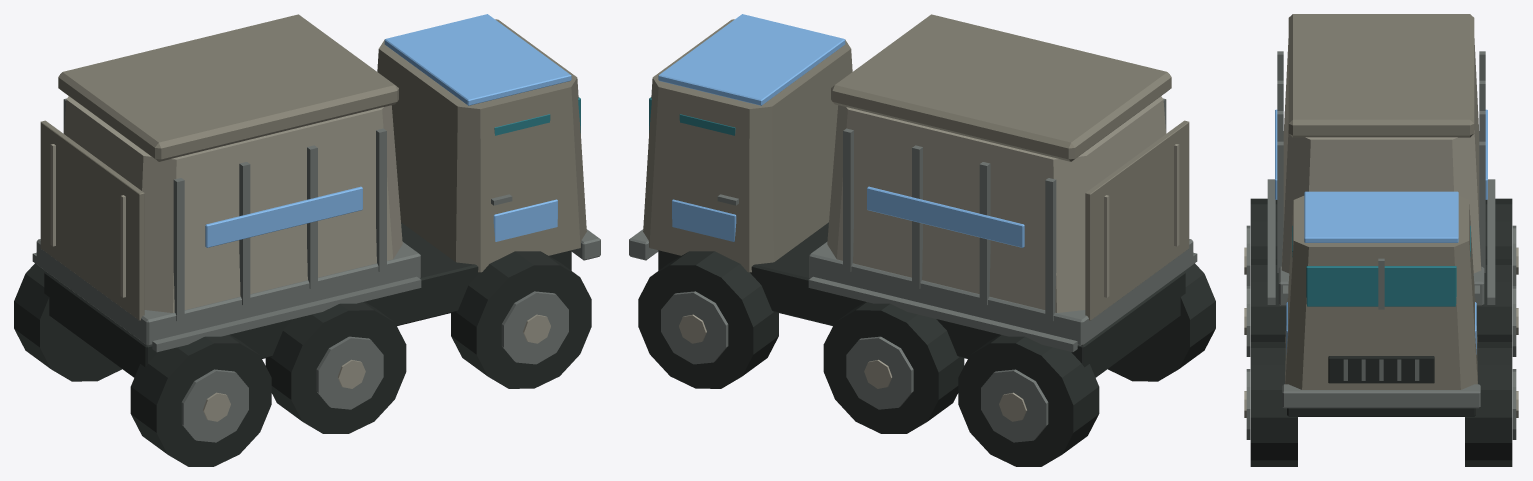
Rendered from supply_truck.glb.
3 renders of one model, left to right at view 1: azimuth 30°, elevation 25°; view 2: azimuth 150°, elevation 25°; view 3: azimuth 270°, elevation 25°, orthographic. The views are drawn at different scales.
Visible parts, largest first — view 1: supply_truck; view 2: supply_truck; view 3: supply_truck.
Boxes of the visible parts, <box> form: supply_truck: <box>14,14,600,466</box>; supply_truck: <box>629,14,1215,466</box>; supply_truck: <box>1244,14,1518,466</box>.
Bounding box in the file's own units: 2.75 × 1.79 × 1.54.
